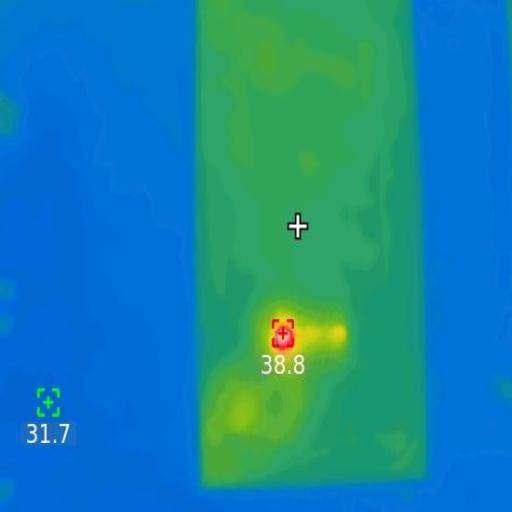hotspot: (276, 322, 294, 349)
